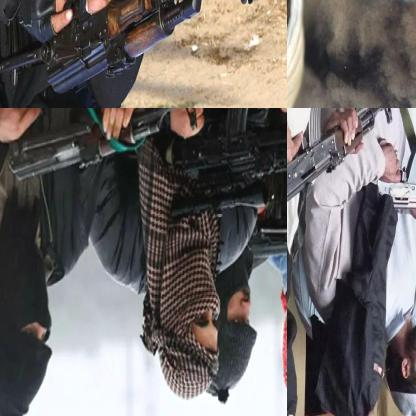rifle: (0, 0, 268, 107), (3, 108, 202, 187), (287, 108, 398, 233), (164, 108, 286, 181), (244, 149, 286, 266), (371, 119, 415, 220)
